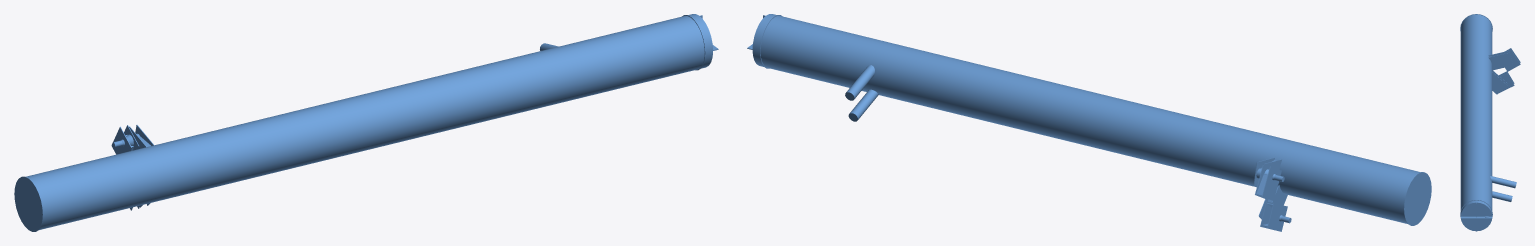
Rendered from tank-a5.glb.
3 renders of one model, left to right at view 1: azimuth 30°, elevation 25°; view 2: azimuth 150°, elevation 25°; view 3: azimuth 270°, elevation 25°, orthographic. The views are drawn at different scales.
Parts seen in each view (by area): view 1: tank-a5; view 2: tank-a5; view 3: tank-a5.
Boxes of the visible parts, box(x1,y1,x2,y2) form: tank-a5: box(14, 14, 718, 231); tank-a5: box(747, 14, 1431, 231); tank-a5: box(1460, 14, 1520, 231).
Bounding box in the file's own units: 42.5 × 4.54 × 5.74.
